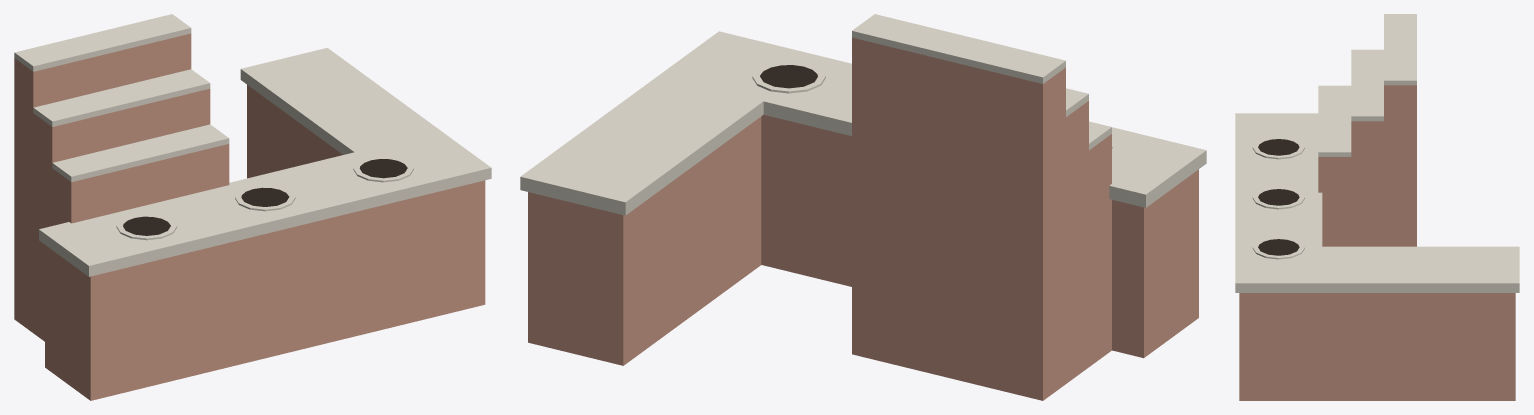
File: rome_counter.glb
3 views of the same model, side by side, from view 1: azimuth 30°, elevation 25°; view 2: azimuth 150°, elevation 25°; view 3: azimuth 270°, elevation 25° (orthographic). The views are drawn at different scales.
Parts seen in each view (by area): view 1: rome_counter; view 2: rome_counter; view 3: rome_counter.
Boxes of the visible parts, x1,y1,x2,y2 form: rome_counter: (14, 14, 491, 400); rome_counter: (520, 14, 1206, 400); rome_counter: (1235, 14, 1519, 400).
Size of the model in its own units: 3.06 by 1.94 by 2.16.
